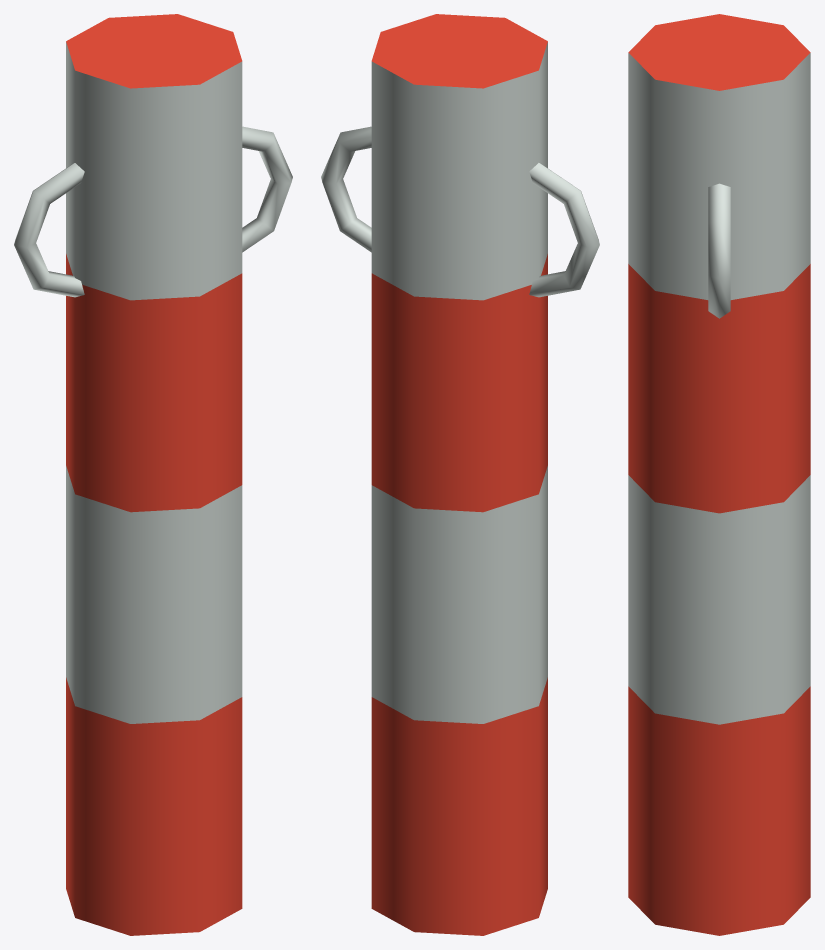
File: SM_Barrier_04.fbx
3 views of the same model, side by side, from view 1: azimuth 30°, elevation 25°; view 2: azimuth 150°, elevation 25°; view 3: azimuth 270°, elevation 25° (orthographic).
Visible parts, largest first — view 1: SM_Barrier_04; view 2: SM_Barrier_04; view 3: SM_Barrier_04.
Part boxes in pixels (box(x1,y1,x2,y2)): SM_Barrier_04: box(14, 14, 292, 935); SM_Barrier_04: box(321, 14, 599, 935); SM_Barrier_04: box(628, 14, 810, 935).
Size of the model in its own units: 39.26 by 114 by 22.27.
